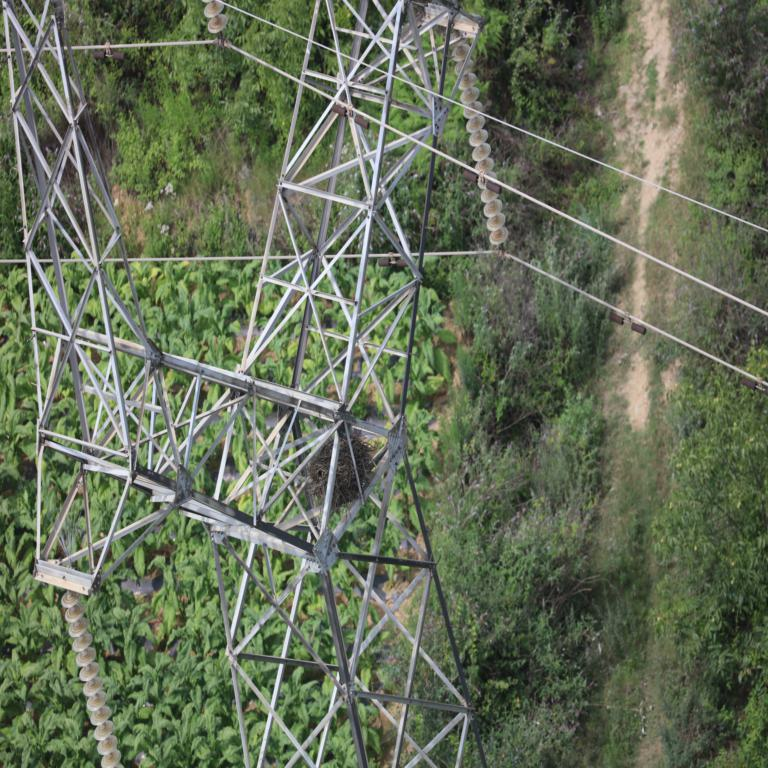nest: (311, 438, 369, 508)
